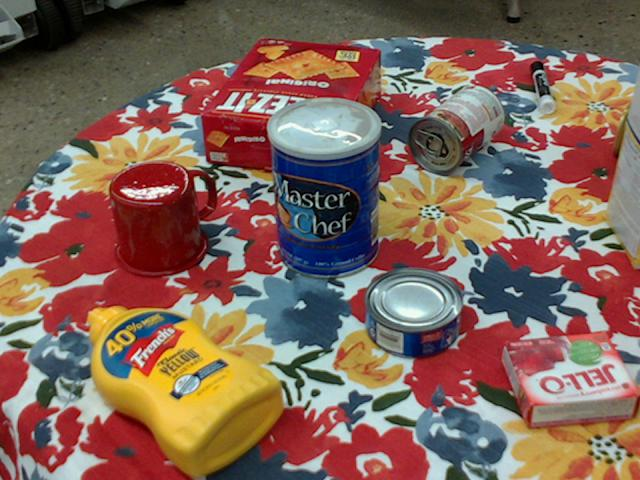cracker_box: (201, 38, 382, 178)
gelatin_box: (504, 332, 639, 427)
large_marker: (532, 60, 555, 112)
master_chef_can: (266, 96, 379, 278)
mug: (108, 160, 214, 277)
mustard_bottle: (87, 306, 284, 476)
potted_meat_can: (611, 86, 639, 156)
sugar_box: (605, 67, 639, 269)
tomato_soup_can: (409, 83, 504, 173)
tuna_fish_can: (364, 268, 464, 359)
